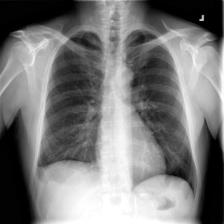normal: (33, 22, 200, 200)
